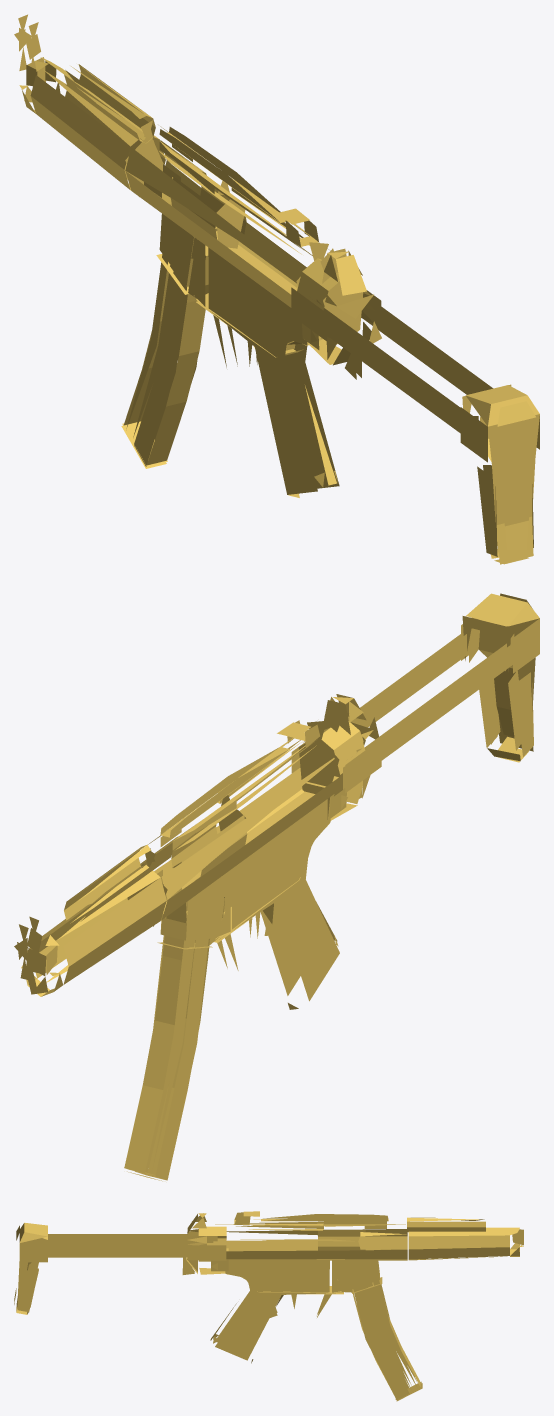
File: charm_mst_subfusil_3.glb
3 renders of one model, top to bottom at view 1: azimuth 30°, elevation 25°; view 2: azimuth 150°, elevation 25°; view 3: azimuth 270°, elevation 25°, orthographic. The views are drawn at different scales.
Visible parts, largest first — view 1: p0_paint; view 2: p0_paint; view 3: p0_paint.
Part boxes in pixels (x1,y1,x2,y2): p0_paint: [14, 14, 539, 564]; p0_paint: [14, 593, 539, 1181]; p0_paint: [14, 1211, 523, 1401].
Bounding box in the file's own units: 0.0396 × 0.2489 × 0.6371.
